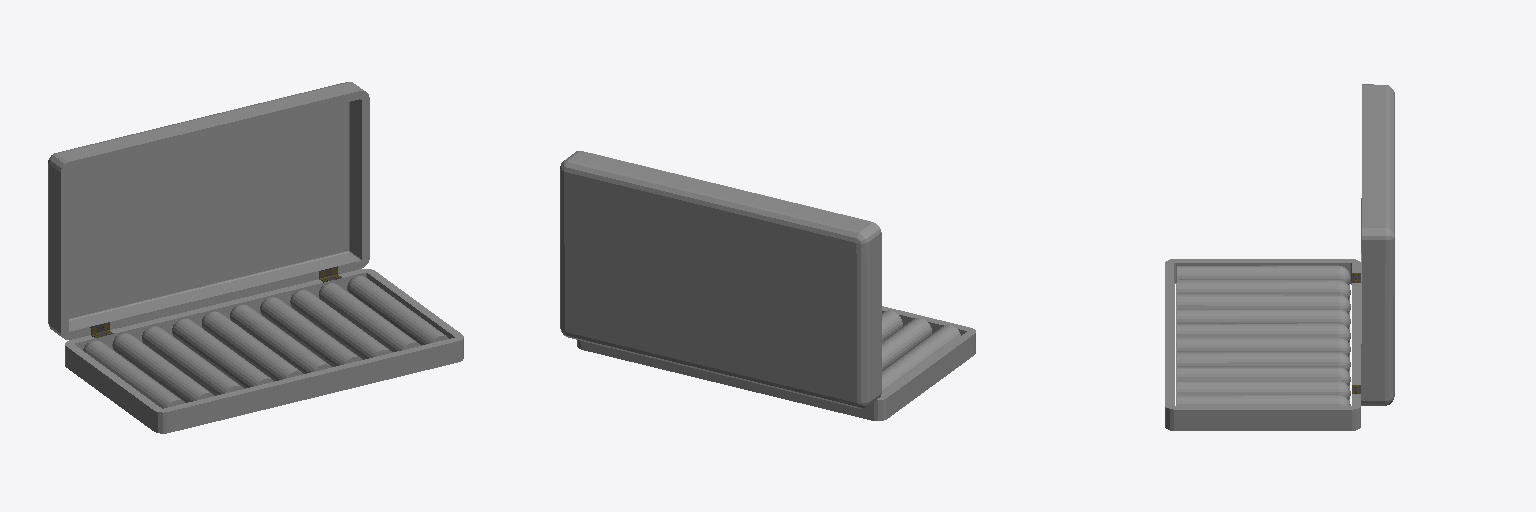
The model's file is cigar_box.obj.
The picture shows the model from 3 angles: view 1: azimuth 30°, elevation 25°; view 2: azimuth 150°, elevation 25°; view 3: azimuth 270°, elevation 25°; orthographic projection.
Parts seen in each view (by area): view 1: Object001, ChamferBox001, Capsule006, Capsule004, Capsule005, Capsule008, Capsule003, Capsule002, Capsule010, Capsule009, Capsule007, Capsule001; view 2: Object001, ChamferBox001, Capsule001, Capsule002; view 3: Object001, ChamferBox001, Capsule006, Capsule003, Capsule007, Capsule001, Capsule004, Capsule002, Capsule005, Capsule008, Capsule009, Capsule010.
Boxes of the visible parts, box(x1,y1,x2,y2) form: Object001: box(48, 82, 369, 339); ChamferBox001: box(65, 269, 463, 433); Capsule006: box(260, 297, 361, 366); Capsule004: box(172, 319, 273, 388); Capsule005: box(290, 290, 392, 359); Capsule008: box(202, 311, 302, 381); Capsule003: box(142, 326, 243, 395); Capsule002: box(112, 333, 213, 402); Capsule010: box(347, 276, 448, 345); Capsule009: box(319, 283, 420, 351); Capsule007: box(230, 304, 331, 373); Capsule001: box(83, 340, 184, 408); Object001: box(560, 151, 881, 408); ChamferBox001: box(577, 306, 975, 420); Capsule001: box(882, 325, 960, 393); Capsule002: box(882, 318, 931, 370); Object001: box(1361, 84, 1394, 405); ChamferBox001: box(1165, 259, 1360, 430); Capsule006: box(1177, 352, 1350, 371); Capsule003: box(1177, 294, 1350, 313); Capsule007: box(1177, 337, 1350, 356); Capsule001: box(1177, 265, 1350, 284); Capsule004: box(1177, 309, 1350, 328); Capsule002: box(1177, 280, 1350, 299); Capsule005: box(1177, 367, 1350, 385); Capsule008: box(1177, 323, 1350, 342); Capsule009: box(1177, 381, 1350, 399); Capsule010: box(1177, 394, 1350, 405).
Bounding box in the file's own units: 57.28 × 35.3 × 36.96.